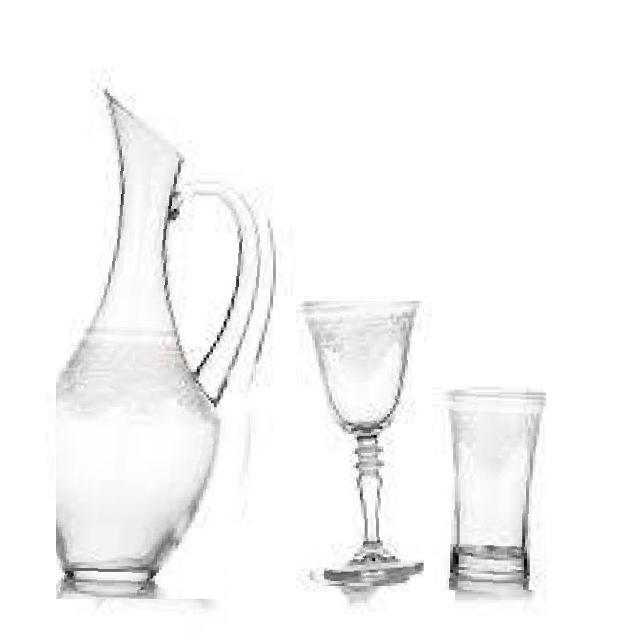Glass: (56, 84, 280, 599), (296, 301, 424, 586), (442, 391, 550, 590)
